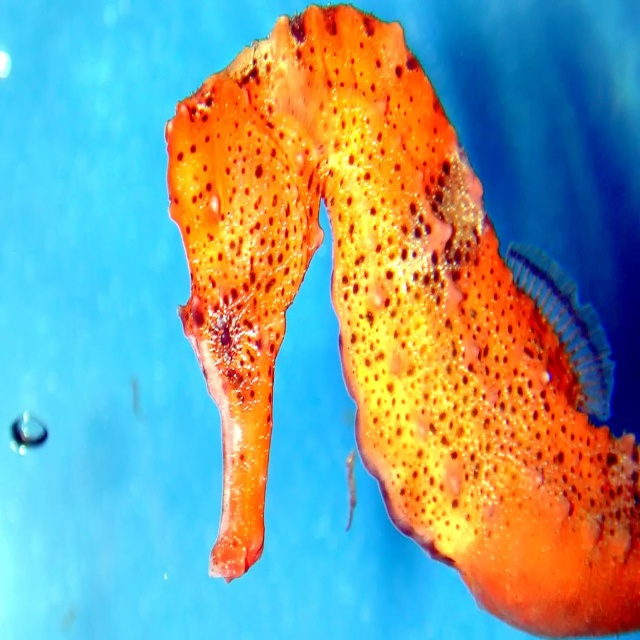Seahorse: (164, 0, 640, 640)
